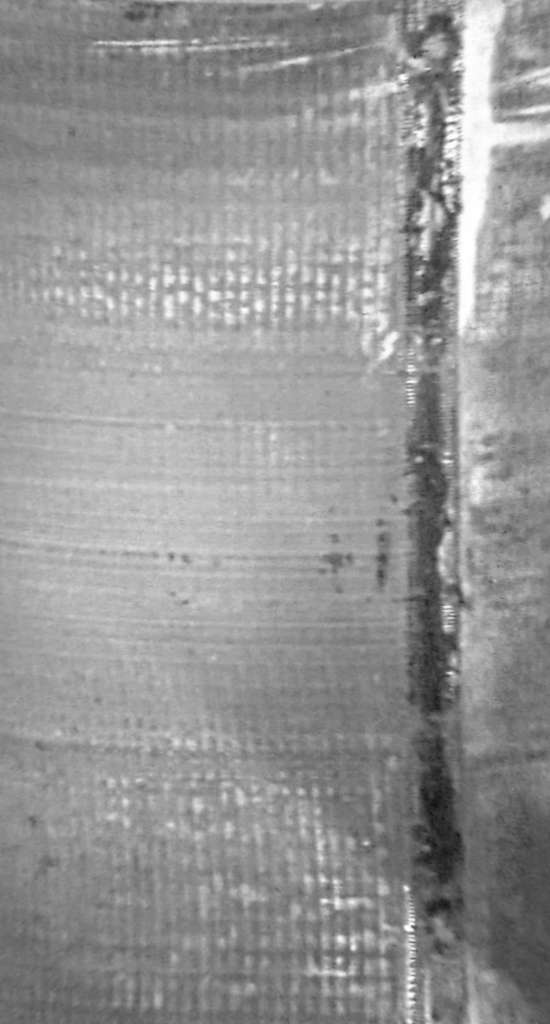splice: (384, 1, 481, 1024)
